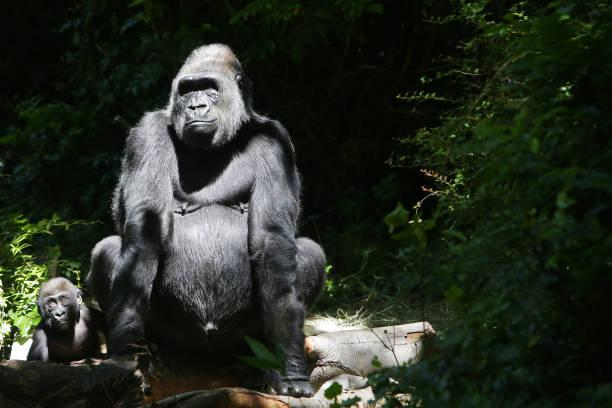gorille_Autres: (91, 36, 353, 393)
